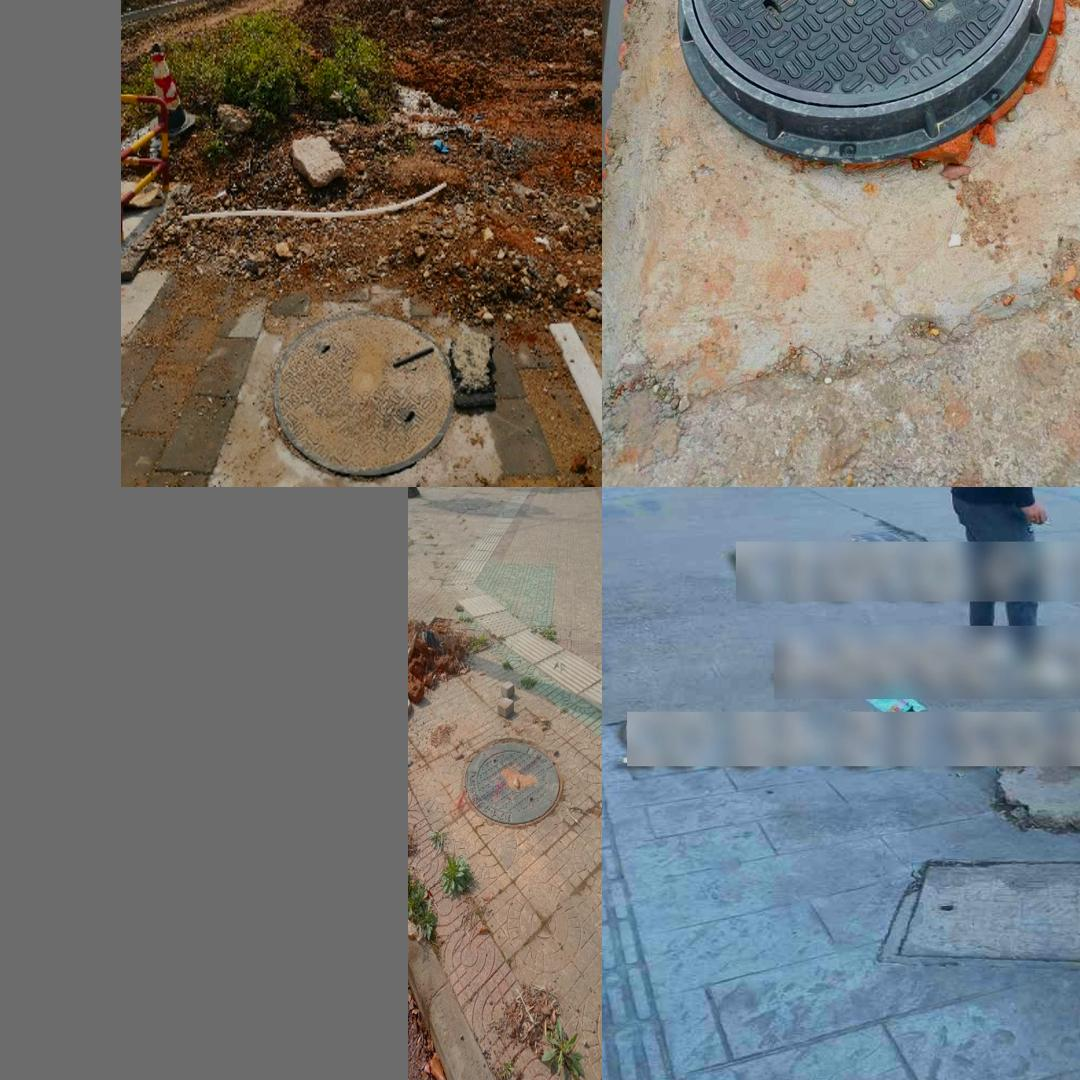good: (676, 0, 1054, 163), (265, 316, 452, 466), (874, 857, 1080, 975), (458, 741, 560, 825)
